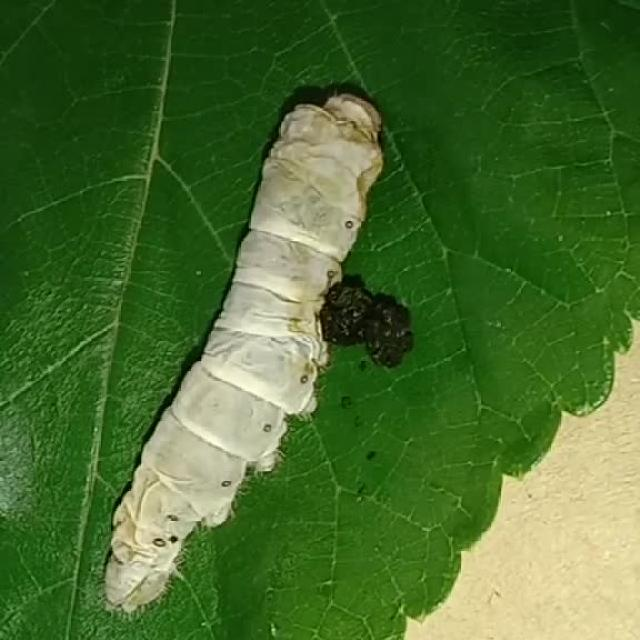Grasserie: (84, 74, 408, 640)
